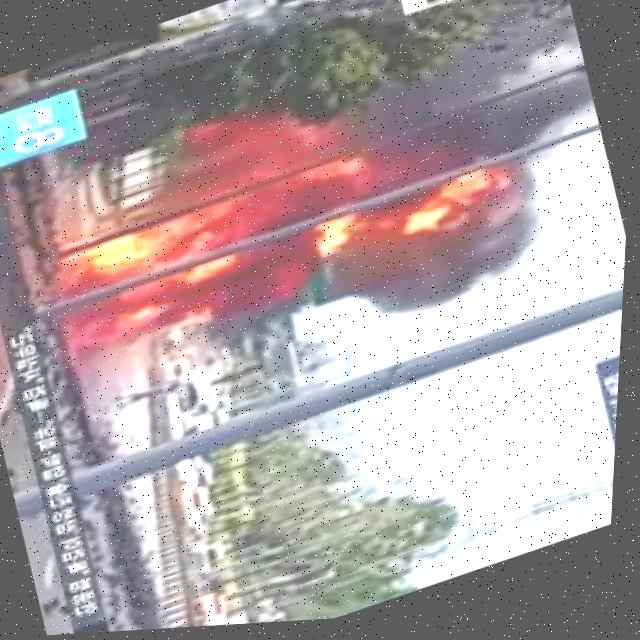Fire: (37, 109, 377, 366), (370, 168, 504, 252)
Smoke: (316, 200, 553, 347)
